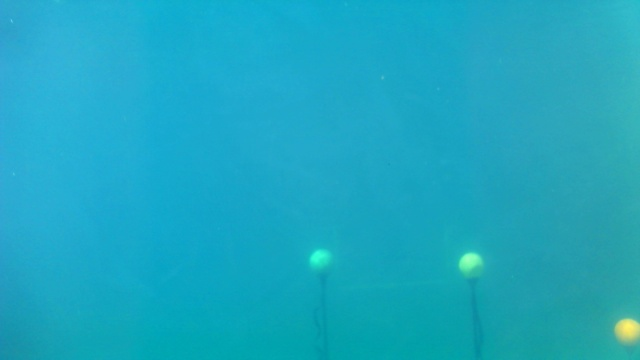buoy_green: (308, 245, 335, 282)
